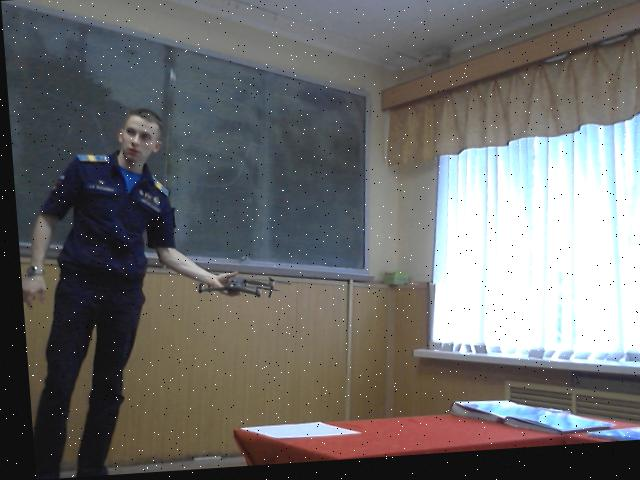drone: (168, 258, 292, 306)
